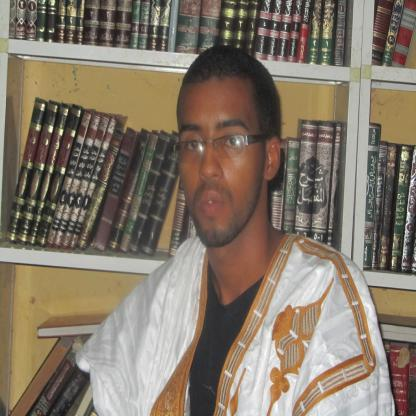book: (0, 0, 416, 416), (4, 96, 48, 244)
